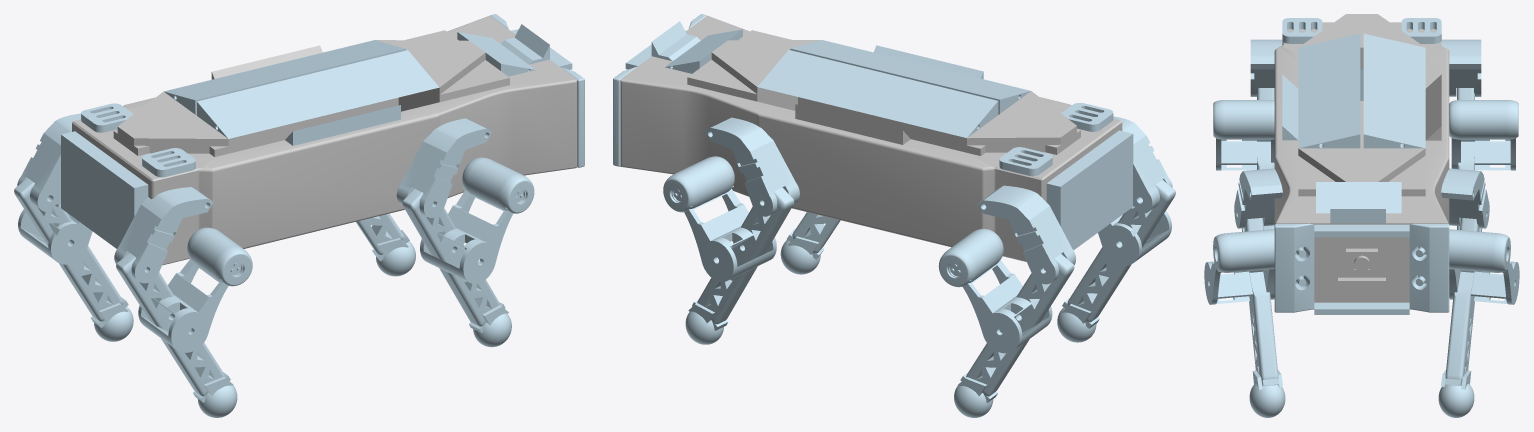
The model's file is echo_v3.gltf.
3 renders of one model, left to right at view 1: azimuth 30°, elevation 25°; view 2: azimuth 150°, elevation 25°; view 3: azimuth 270°, elevation 25°, orthographic. The views are drawn at different scales.
Parts seen in each view (by area): view 1: Surface 119, Part 13, Part 25, Surface 126, Part 22, Part 21, Part 9, Part 12, Surface 122, Surface 112, Surface 125, Part 20 (+11 smaller); view 2: Surface 119, Part 12, Surface 126, Part 24, Part 23, Part 20, Part 10, Part 13, Surface 125, Surface 114, Surface 122, Part 21 (+11 smaller); view 3: Surface 119, Part 12, Part 13, Part 23, Part 24, Part 25, Part 22, Surface 105, Surface 53, Surface 114, Surface 112, Part 4 (+12 smaller).
Boxes of the visible parts, bbox=[...] form: Surface 119: bbox=[72, 15, 577, 265]; Part 13: bbox=[197, 50, 439, 138]; Part 25: bbox=[420, 157, 534, 283]; Surface 126: bbox=[61, 131, 148, 248]; Part 22: bbox=[138, 227, 252, 352]; Part 21: bbox=[114, 187, 213, 283]; Part 9: bbox=[396, 118, 492, 217]; Part 12: bbox=[164, 40, 406, 114]; Surface 122: bbox=[59, 240, 133, 341]; Surface 112: bbox=[439, 243, 511, 347]; Surface 125: bbox=[158, 311, 237, 417]; Part 20: bbox=[17, 113, 80, 211]; Surface 119: bbox=[620, 15, 1122, 261]; Part 12: bbox=[757, 50, 998, 137]; Surface 126: bbox=[1046, 130, 1133, 250]; Part 24: bbox=[663, 156, 776, 281]; Part 23: bbox=[938, 228, 1052, 353]; Part 20: bbox=[977, 185, 1075, 284]; Part 10: bbox=[705, 117, 799, 216]; Part 13: bbox=[790, 40, 1030, 113]; Surface 125: bbox=[1057, 241, 1131, 342]; Surface 114: bbox=[685, 241, 757, 344]; Surface 122: bbox=[954, 312, 1032, 417]; Part 21: bbox=[1113, 116, 1172, 213]; Surface 119: bbox=[1274, 14, 1449, 309]; Part 12: bbox=[1363, 33, 1425, 148]; Part 13: bbox=[1298, 33, 1360, 148]; Part 23: bbox=[1449, 100, 1518, 170]; Part 24: bbox=[1449, 229, 1519, 304]; Part 25: bbox=[1204, 229, 1274, 304]; Part 22: bbox=[1213, 100, 1274, 170]; Surface 105: bbox=[1274, 223, 1314, 312]; Surface 53: bbox=[1409, 223, 1449, 312]; Surface 114: bbox=[1438, 271, 1474, 417]; Surface 112: bbox=[1249, 271, 1285, 417]; Part 4: bbox=[1316, 182, 1401, 213].
Size of the model in its own units: 0.3395 by 0.1847 by 0.1983.
